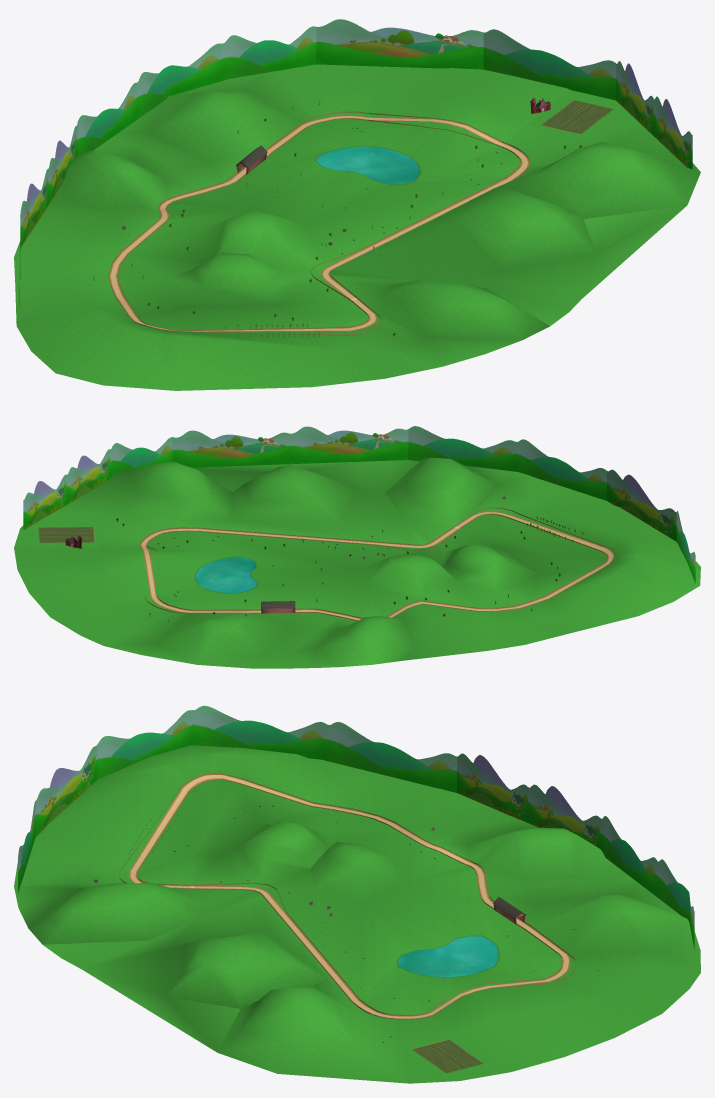
The model's file is rural_b.glb.
3 renders of one model, top to bottom at view 1: azimuth 30°, elevation 25°; view 2: azimuth 150°, elevation 25°; view 3: azimuth 270°, elevation 25°, orthographic. The views are drawn at different scales.
Visible parts, largest first — view 1: rural_b, polySurface1, field, polySurface7, track_C, track_D, track_B, track_F, fence_new9; view 2: rural_b, polySurface1 (×2), field, polySurface7, track_C, track_D, track_B, fence_new3, track_A, fence_new8, track_F, fence_new6; view 3: rural_b, polySurface1, field, polySurface7, track_C, track_B, track_D, track_A, track_F.
Part boxes in pixels (bbox=[...]): rural_b: bbox=[14, 64, 700, 390]; polySurface1: bbox=[19, 19, 692, 306]; field: bbox=[526, 90, 638, 138]; polySurface7: bbox=[316, 146, 419, 184]; track_C: bbox=[321, 179, 510, 300]; track_D: bbox=[302, 115, 529, 180]; track_B: bbox=[161, 299, 377, 331]; track_F: bbox=[112, 190, 202, 264]; fence_new9: bbox=[128, 316, 348, 335]; rural_b: bbox=[14, 457, 700, 668]; polySurface1 (×2): bbox=[23, 426, 695, 613]; field: bbox=[14, 515, 101, 547]; polySurface7: bbox=[195, 557, 257, 593]; track_C: bbox=[197, 526, 459, 548]; track_D: bbox=[140, 528, 197, 612]; track_B: bbox=[456, 511, 612, 554]; fence_new3: bbox=[198, 527, 416, 551]; track_A: bbox=[497, 552, 614, 610]; fence_new8: bbox=[421, 569, 598, 611]; track_F: bbox=[340, 601, 497, 620]; fence_new6: bbox=[145, 595, 260, 613]; rural_b: bbox=[14, 745, 700, 1083]; polySurface1: bbox=[18, 705, 694, 949]; field: bbox=[403, 1034, 510, 1083]; polySurface7: bbox=[398, 936, 498, 977]; track_C: bbox=[191, 885, 359, 1001]; track_B: bbox=[128, 779, 198, 888]; track_D: bbox=[353, 954, 570, 1018]; track_A: bbox=[193, 774, 378, 818]; track_F: bbox=[374, 816, 486, 885].
Size of the model in its own units: 9471 by 719 by 8112.
Materials: 38 (38 with a texture image).
